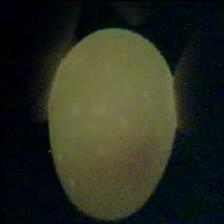infertile: (46, 25, 180, 220)
